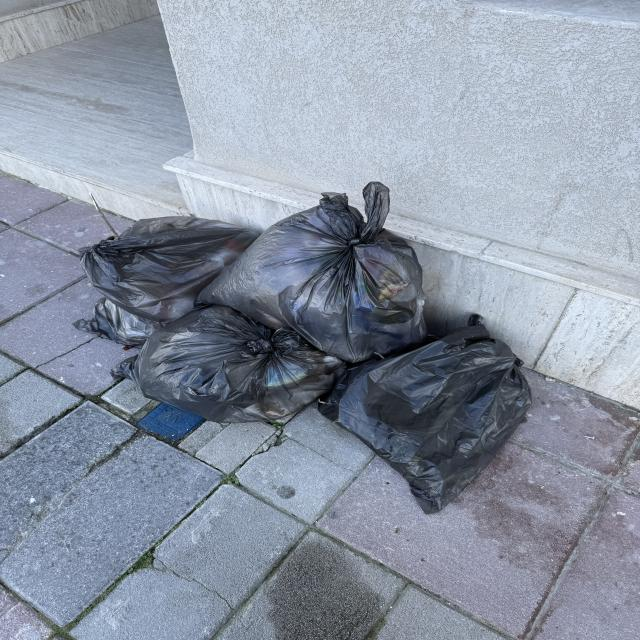Mixed Waste -Black Bags-: (73, 181, 532, 515)
